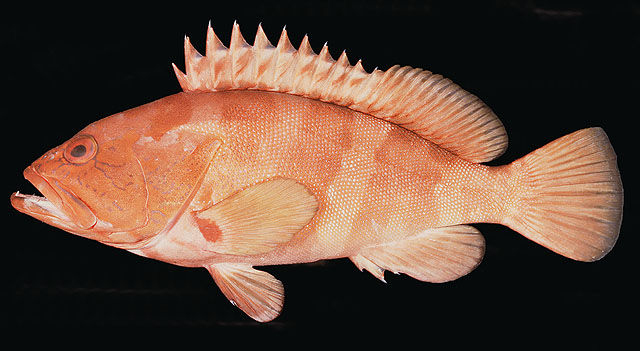fish: (10, 17, 625, 323)
